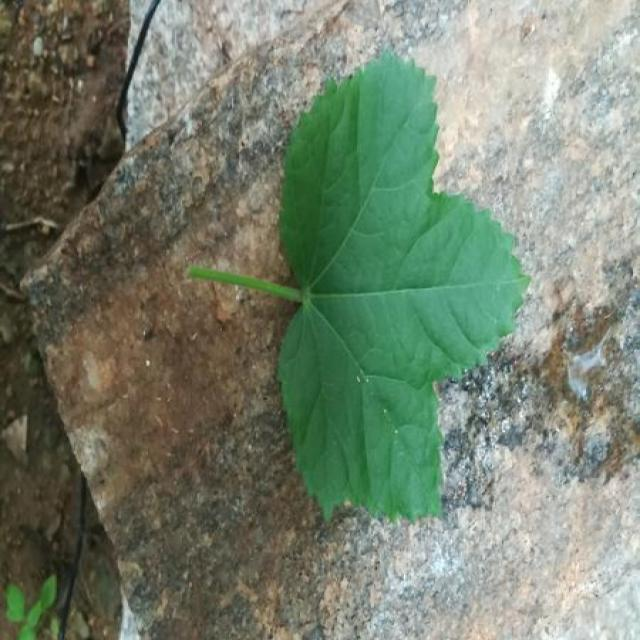kasamburga: (188, 52, 528, 519)
